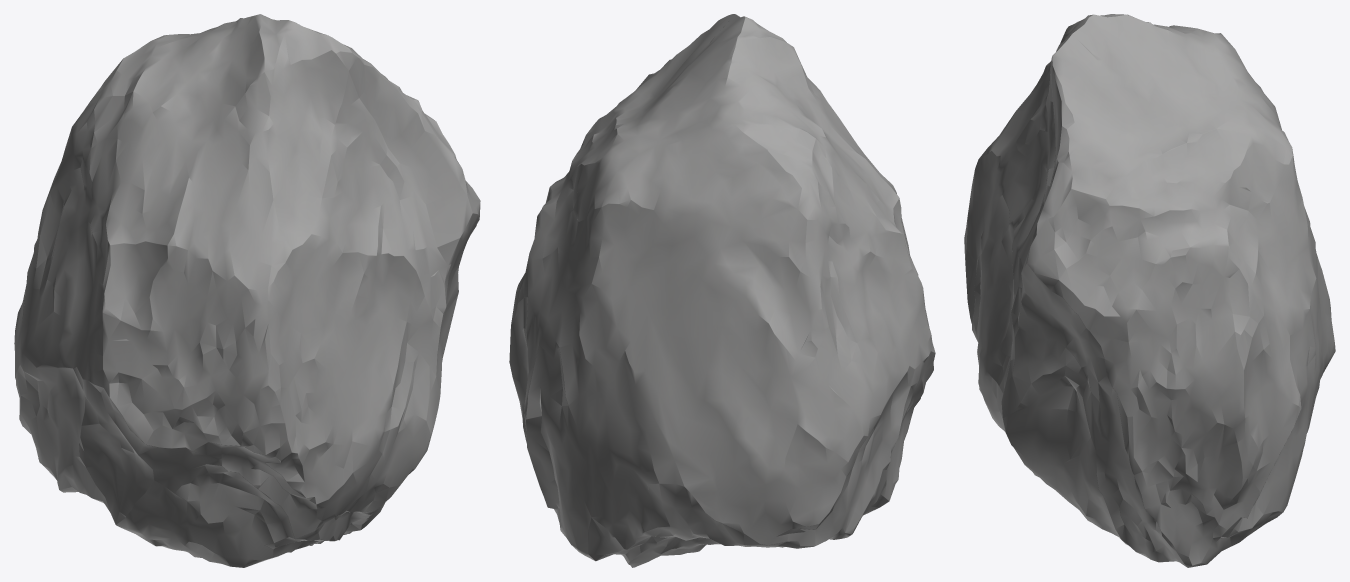
File: Rock 2.fbx
3 renders of one model, left to right at view 1: azimuth 30°, elevation 25°; view 2: azimuth 150°, elevation 25°; view 3: azimuth 270°, elevation 25°, orthographic. The views are drawn at different scales.
Visible parts, largest first — view 1: Rock 2_Baked; view 2: Rock 2_Baked; view 3: Rock 2_Baked.
Boxes of the visible parts, <box> form: Rock 2_Baked: <box>14,14,480,567</box>; Rock 2_Baked: <box>509,14,935,567</box>; Rock 2_Baked: <box>964,14,1335,567</box>.
Bounding box in the file's own units: 323 × 444 × 296.
1 material, 1 textured.
